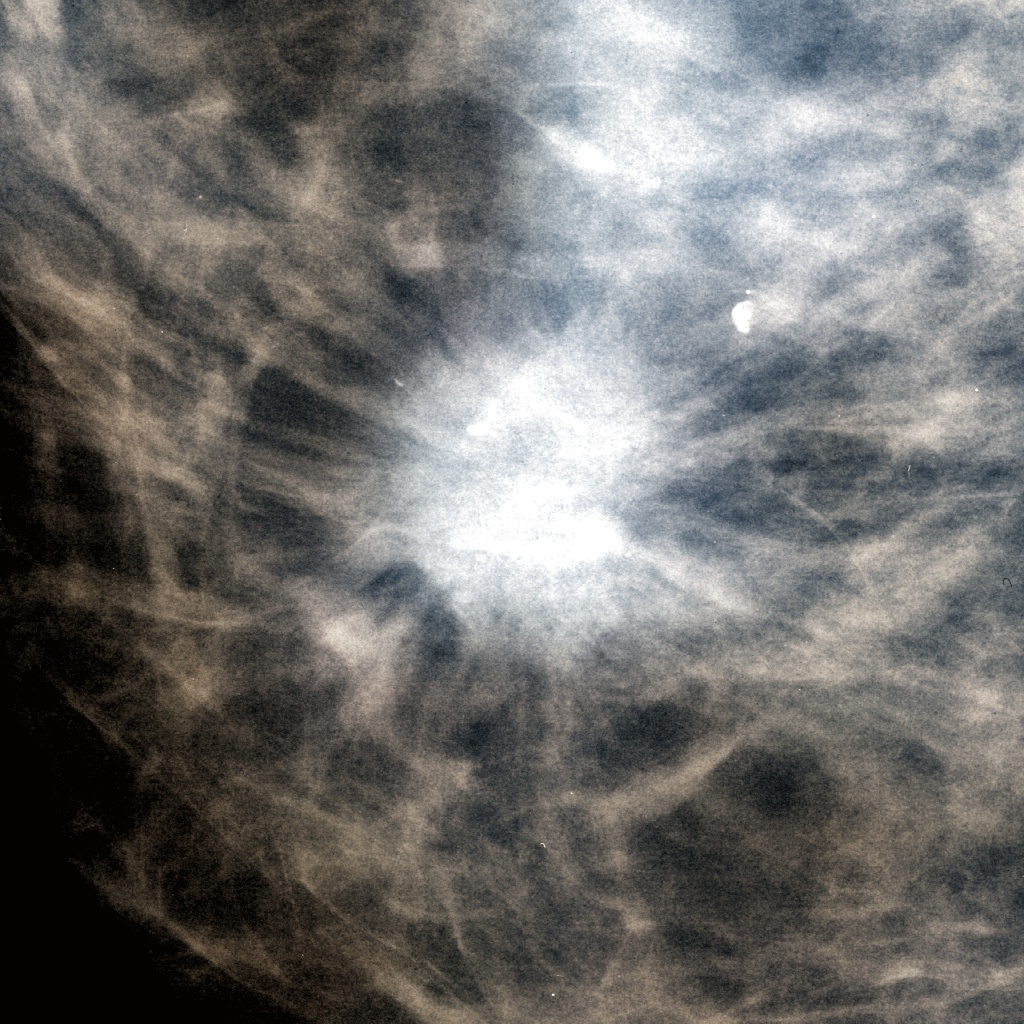tumor: (251, 296, 773, 728)
